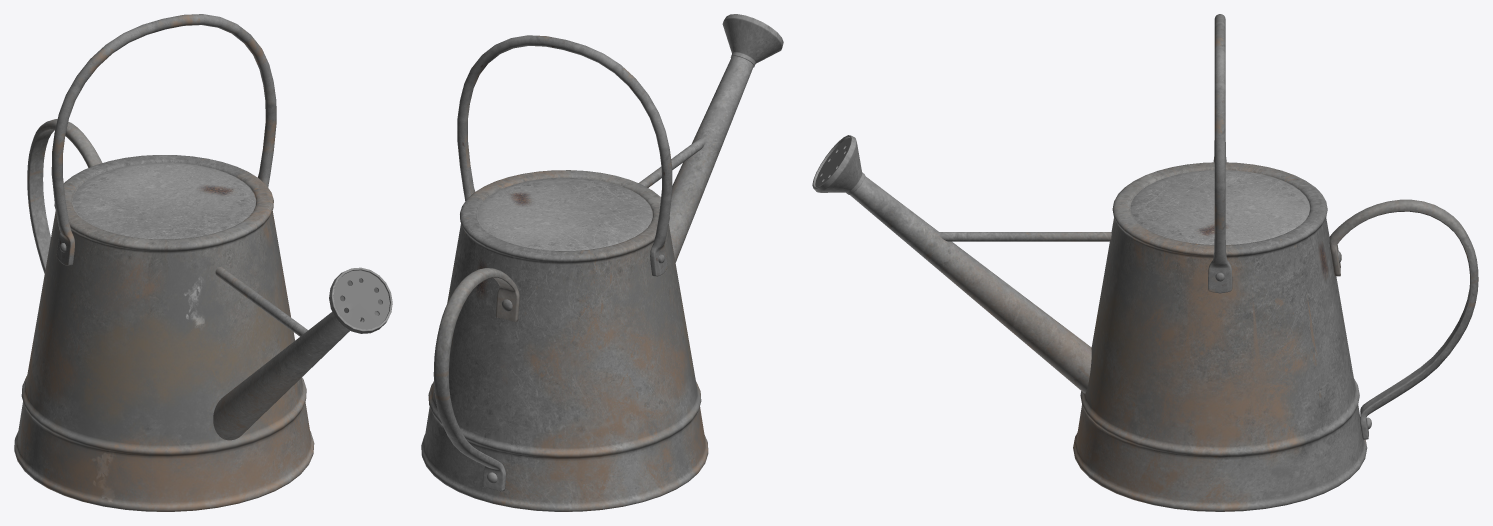
Rendered from regadera.glb.
The picture shows the model from 3 angles, left to right: view 1: azimuth 30°, elevation 25°; view 2: azimuth 150°, elevation 25°; view 3: azimuth 270°, elevation 25°; orthographic projection. The views are drawn at different scales.
Parts seen in each view (by area): view 1: Object_2; view 2: Object_2; view 3: Object_2.
Part boxes in pixels (x1=…): Object_2: x1=14, y1=14, x2=392, y2=511; Object_2: x1=421, y1=14, x2=783, y2=511; Object_2: x1=812, y1=14, x2=1478, y2=511.
Size of the model in its own units: 9.85 by 15.57 by 22.3.
1 material, 1 textured.
